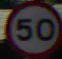Speed limit: (3, 0, 58, 53)
